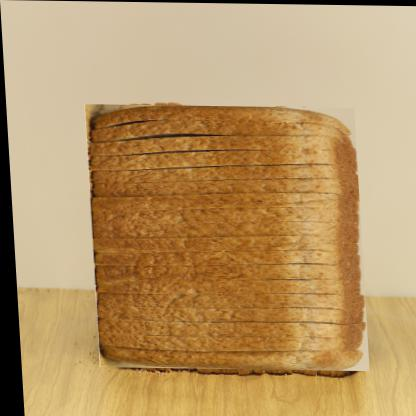bread_loaf: (85, 103, 365, 373)
